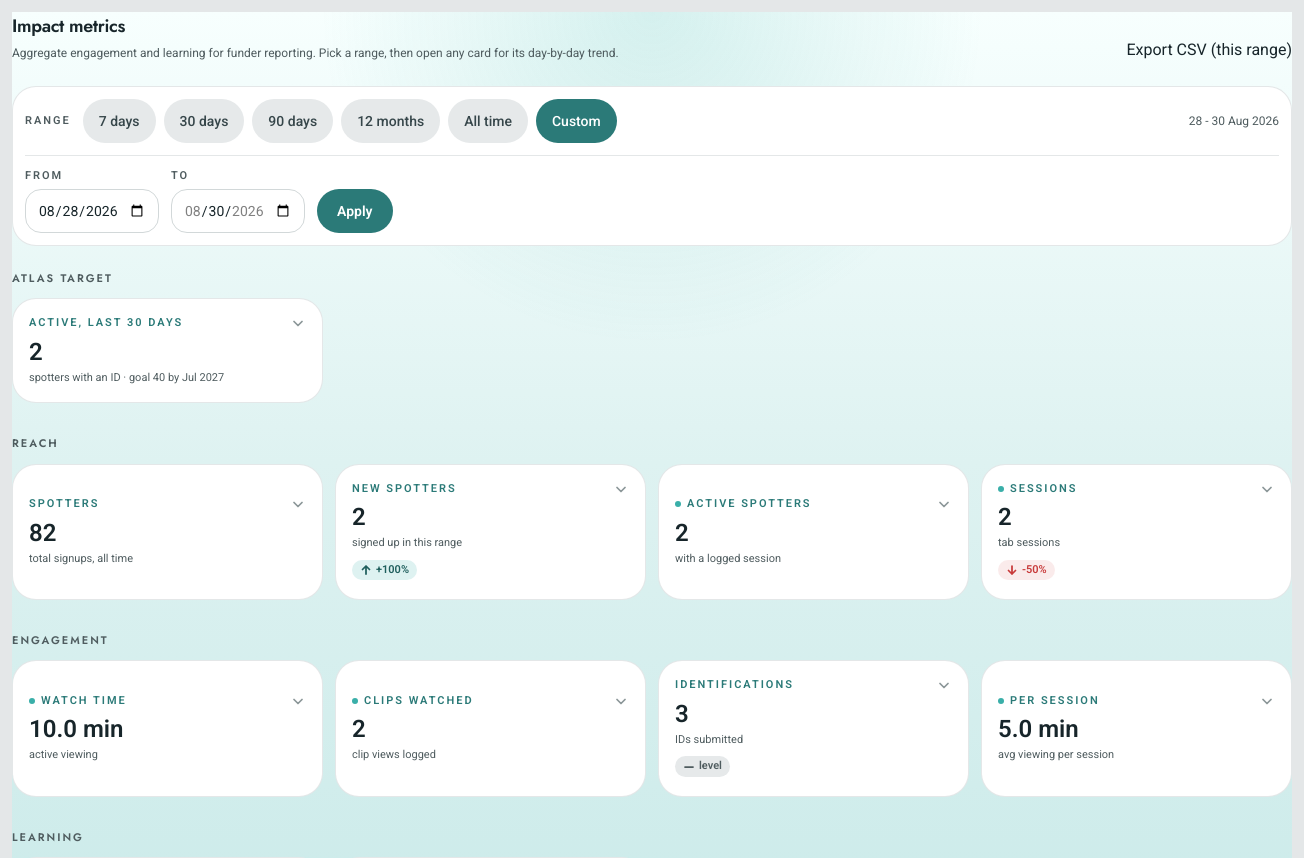
Scenario: MetricsDashboard range picker › refuses to apply a backwards custom range
Step 1. Type "2026-07-31" into the date field labelled "From" → (92, 210), box [25,188,159,232]
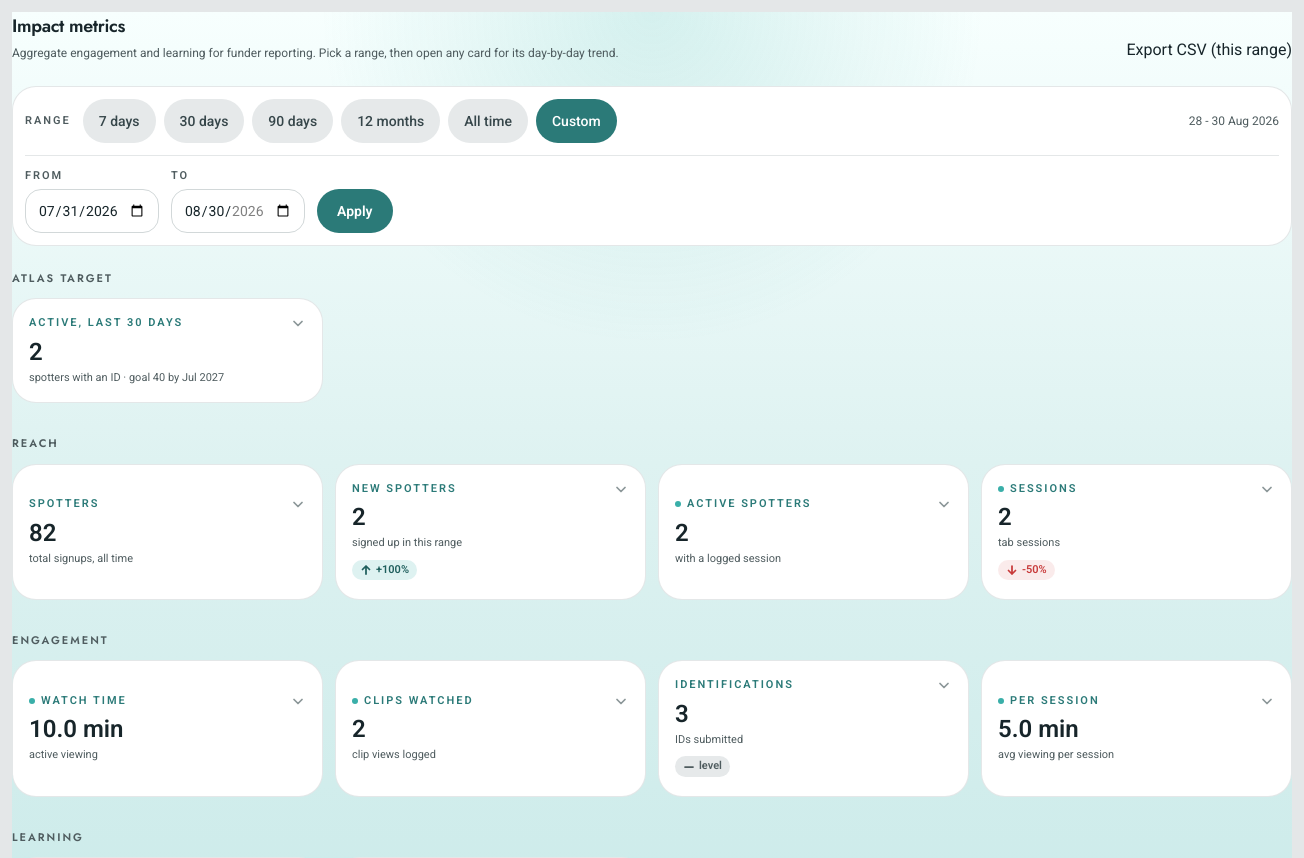
Step 2. Type "2026-07-01" into the date field labelled "To" → (238, 210), box [171,188,305,232]
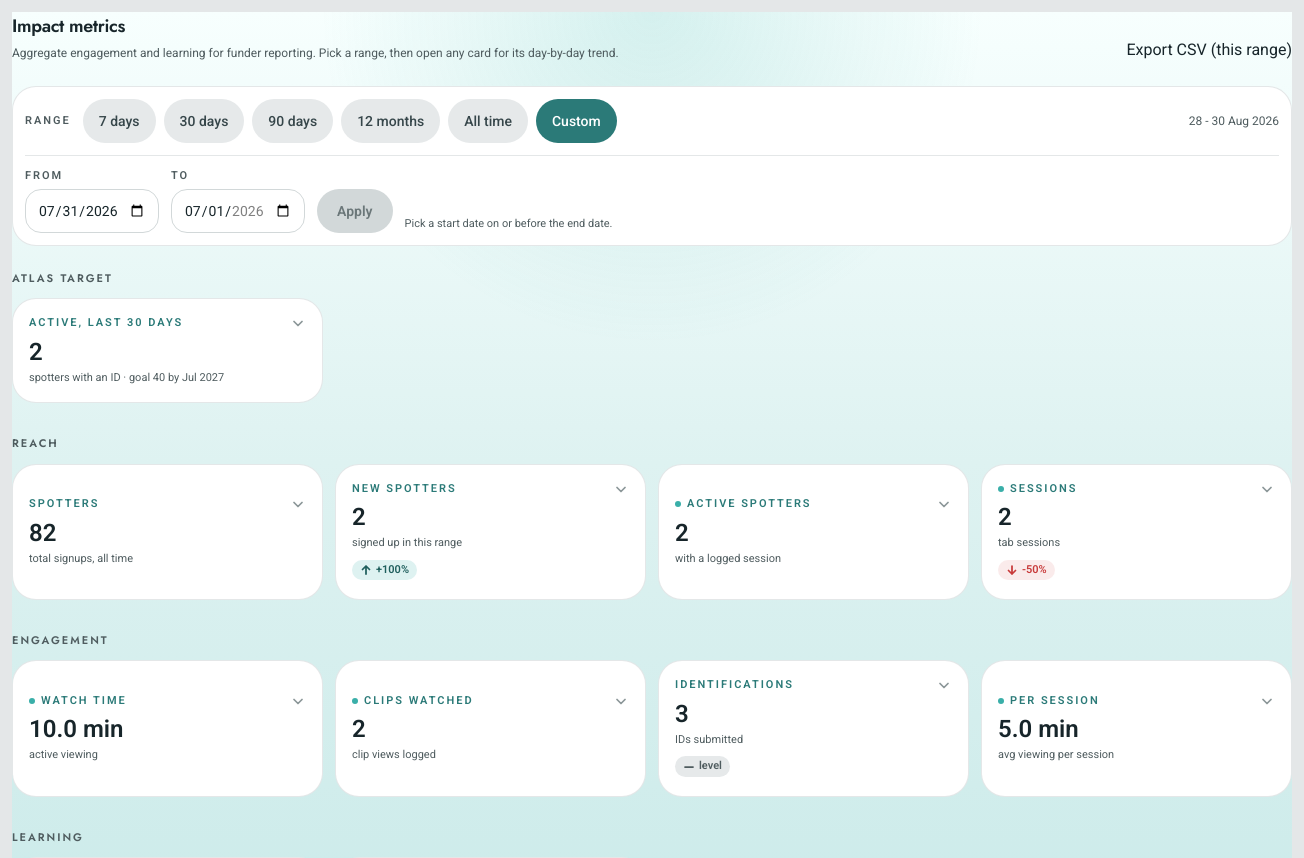
Expected: the button "Apply" is disabled, [317,188,392,232]
